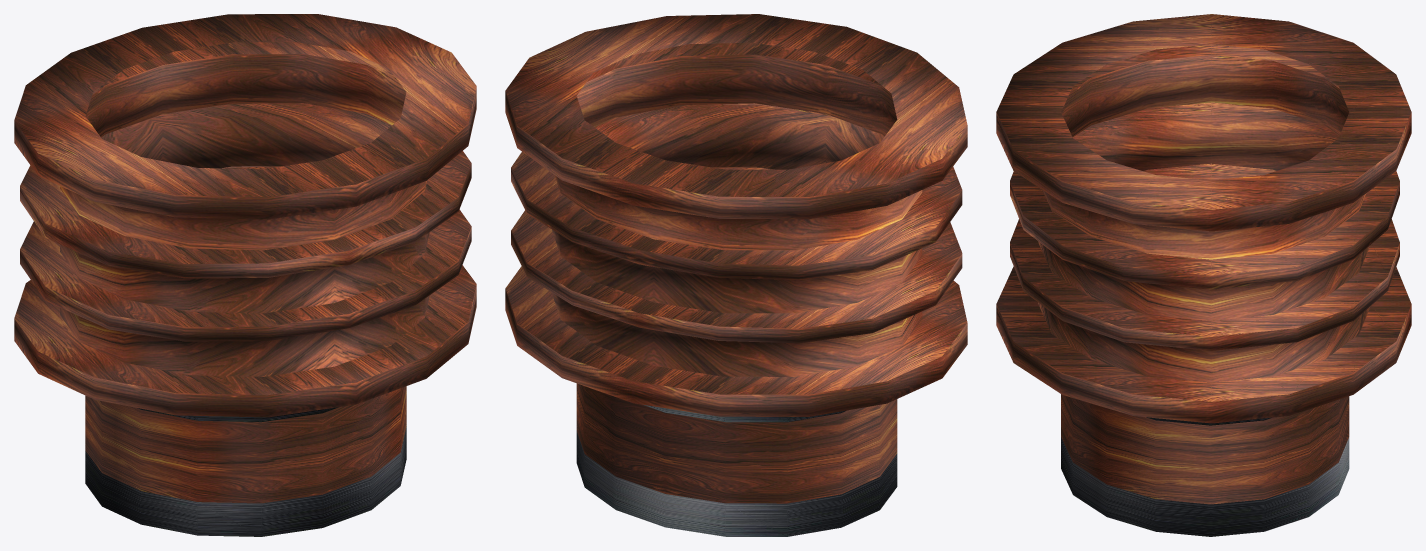
The model's file is bar_rack.glb.
The picture shows the model from 3 angles, left to right: view 1: azimuth 30°, elevation 25°; view 2: azimuth 150°, elevation 25°; view 3: azimuth 270°, elevation 25°; orthographic projection. The views are drawn at different scales.
Visible parts, largest first — view 1: Bar Rack; view 2: Bar Rack; view 3: Bar Rack.
Boxes of the visible parts, x1,y1,x2,y2 form: Bar Rack: (14,14,476,536); Bar Rack: (505,14,967,536); Bar Rack: (996,14,1411,536).
Size of what is drawn, in the model's own units: 4.14 by 3.52 by 3.71.
Materials: 1 (1 with a texture image).
